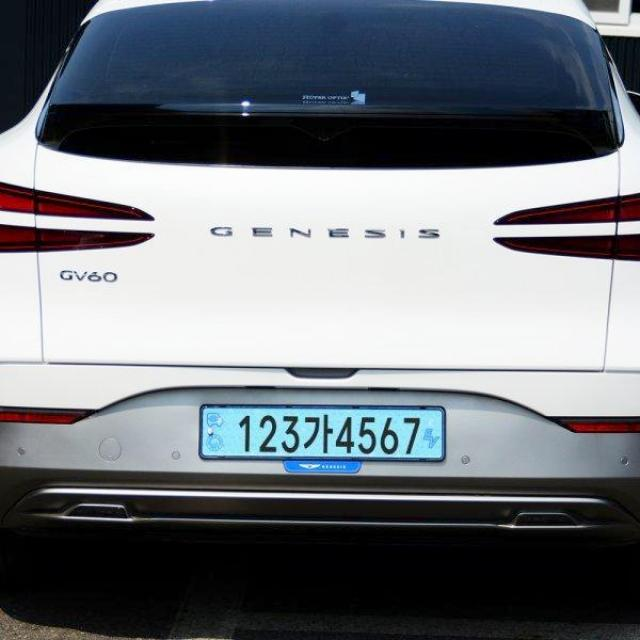EV_plate: (198, 399, 454, 481)
car: (1, 0, 640, 622)
